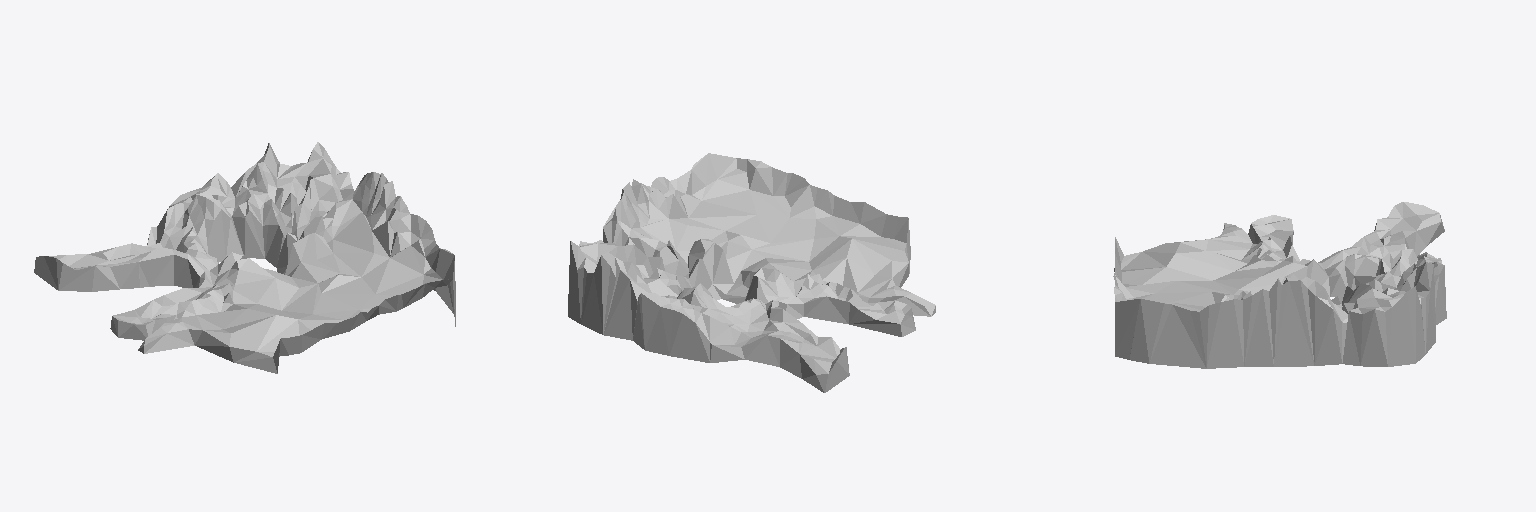
File: TerrainNew1000.obj
3 views of the same model, side by side, from view 1: azimuth 30°, elevation 25°; view 2: azimuth 150°, elevation 25°; view 3: azimuth 270°, elevation 25° (orthographic).
Visible parts, largest first — view 1: Plane_Plane.000; view 2: Plane_Plane.000; view 3: Plane_Plane.000.
Boxes of the visible parts, x1,y1,x2,y2 form: Plane_Plane.000: [34, 142, 455, 373]; Plane_Plane.000: [568, 153, 935, 392]; Plane_Plane.000: [1113, 202, 1446, 368].
Bounding box in the file's own units: 1.9 × 0.5939 × 1.92.